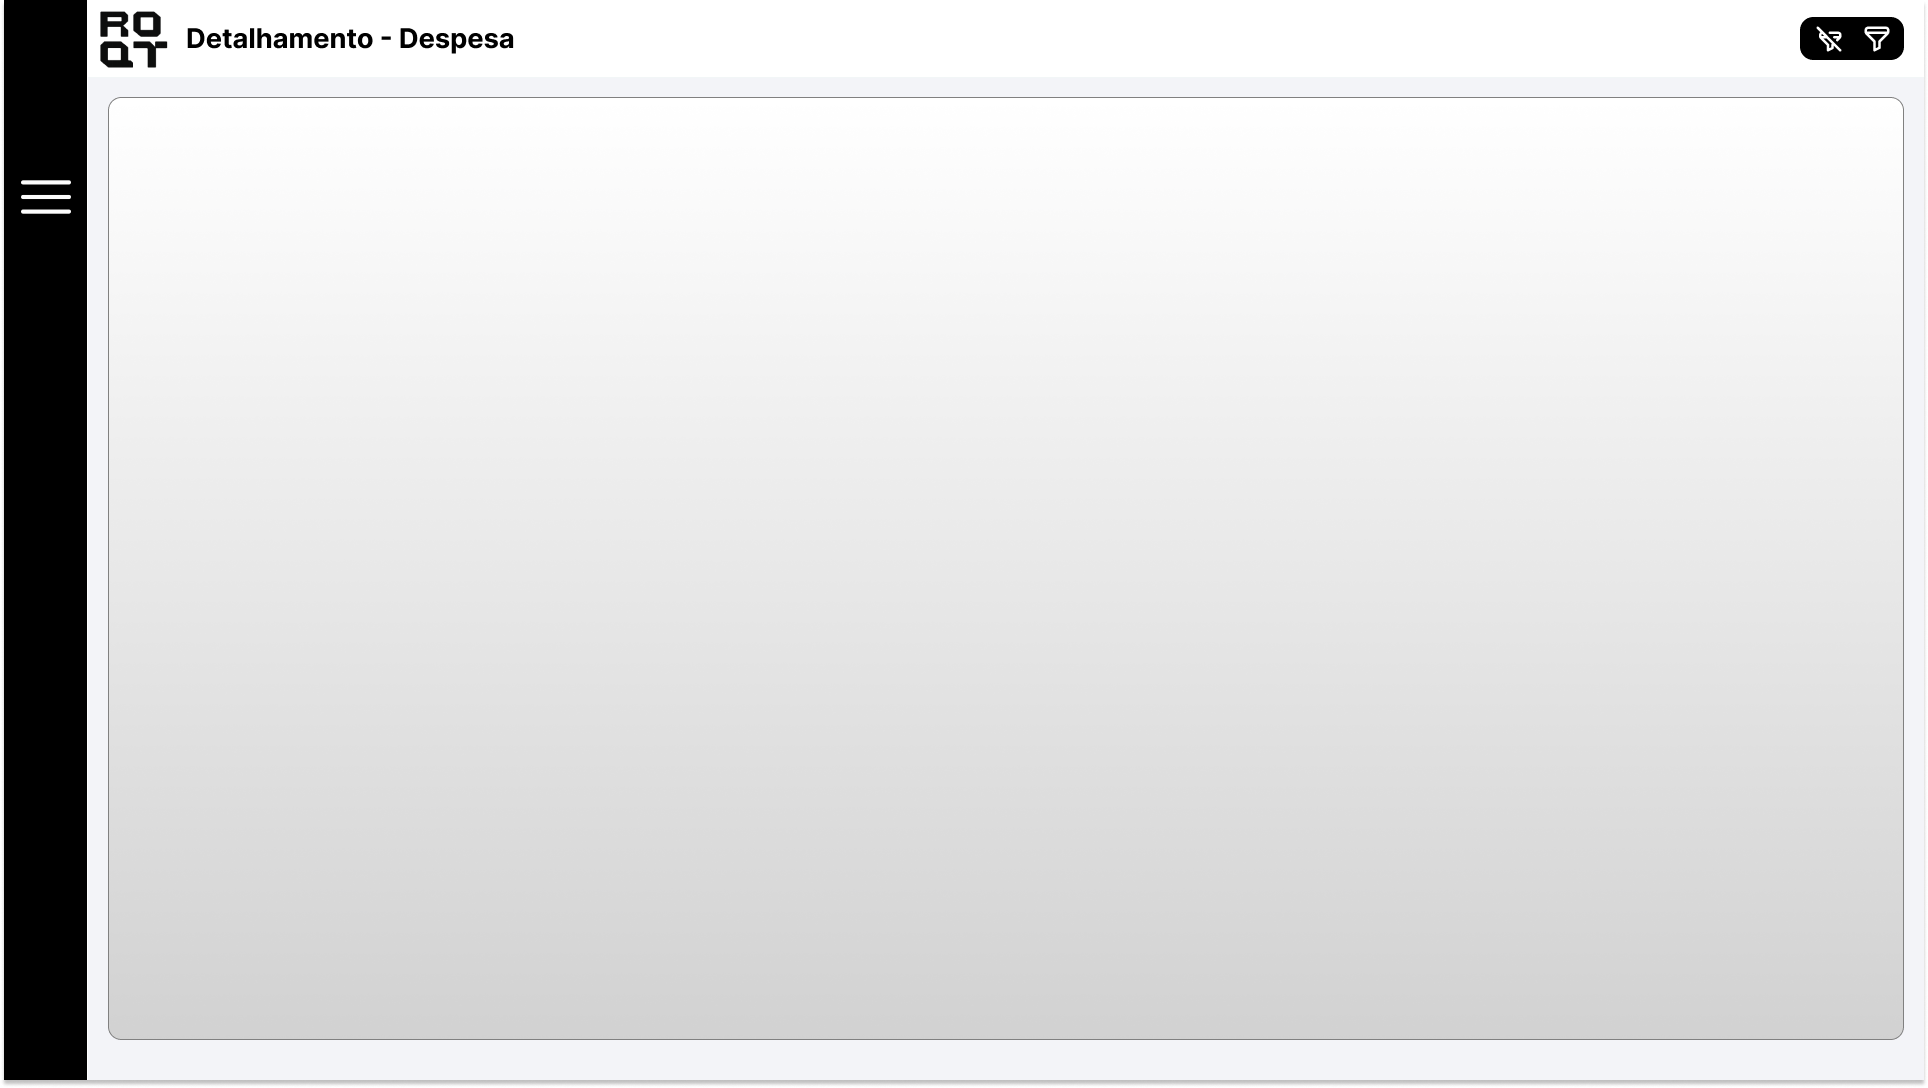

The page's visual inventory and layout, read from the dashboard file:
{"tool":"powerbi","page":{"name":"Det. Depesa","canvas":[1280,720],"ordinal":8},"visuals":[{"type":"group","id":"g1","title":"Geral","box":[0,11,1264.3,679],"z":0},{"type":"tableEx","title":"tabela","fields":{"Values":["d_Calendario.Date","d_Centro_de_Custo.Departamento","d_Centro_de_Custo.Gestor","d_Centro_de_Custo.Nome","d_Plano_de_Contas.Grupo","d_Plano_de_Contas.Nome","d_Fornecedores.Razao_Social","d_Fornecedores.Segmento","d_Fornecedores.UF","d_Fornecedores.Cidade","Medidas.m_despesa","d_Fornecedores.Status"]},"box":[71.4,64.3,1192.9,625.7],"z":0,"group":"g1"},{"type":"actionButton","title":"botao - menu lateral","box":[0,110,57.5,40],"z":1000,"group":"g1"},{"type":"actionButton","title":"botao - limpa filtros","box":[1198.9,11.1,30,27.8],"z":2000,"group":"g1"},{"type":"actionButton","title":"botao - filtros","box":[1229,11,30,28],"z":3000,"group":"g1"}]}

Visuals, with their boxes on the page's 1280x720 design canvas (x1, y1, x2, y2). These are canvas units, not pixel positions in the 1928x1088 screenshot, which may show the page scaled, cropped or inside an application window:
"Geral" group: x1=0 y1=11 x2=1264 y2=690
"tabela" tableEx: x1=71 y1=64 x2=1264 y2=690
"botao - menu lateral" actionButton: x1=0 y1=110 x2=58 y2=150
"botao - limpa filtros" actionButton: x1=1199 y1=11 x2=1229 y2=39
"botao - filtros" actionButton: x1=1229 y1=11 x2=1259 y2=39
